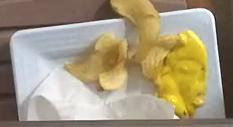fries: (111, 0, 180, 79), (65, 33, 127, 90)
